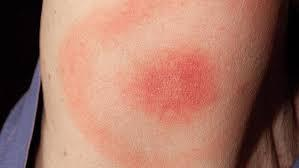Tick: (93, 22, 231, 159)
